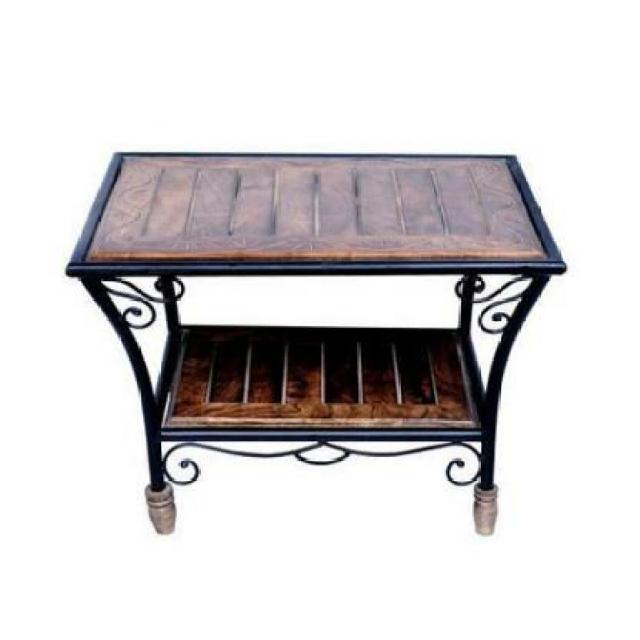table: (60, 149, 568, 536)
